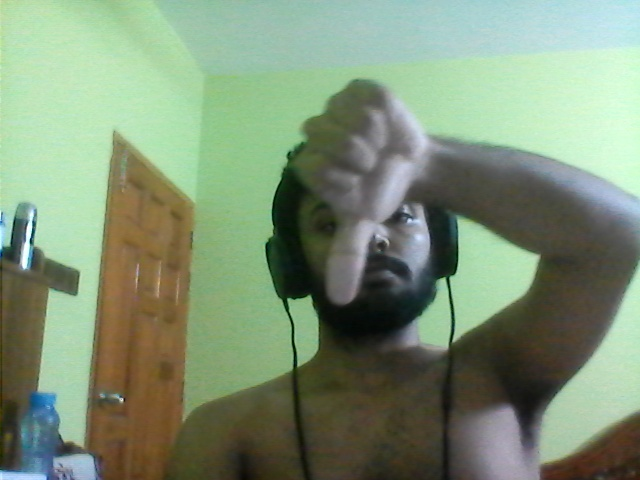No: (297, 69, 422, 318)
